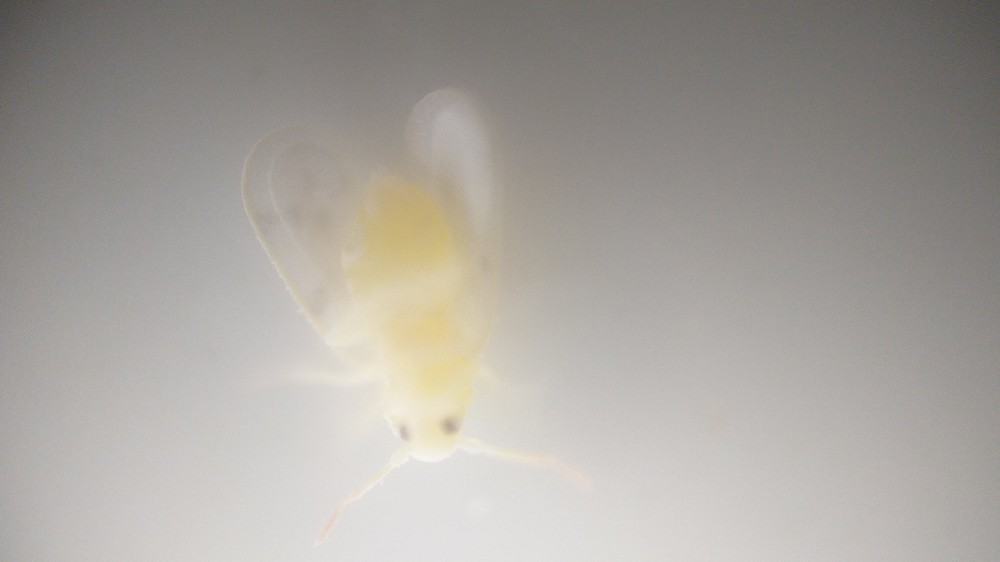Mosca Blanca: (203, 76, 642, 544)
